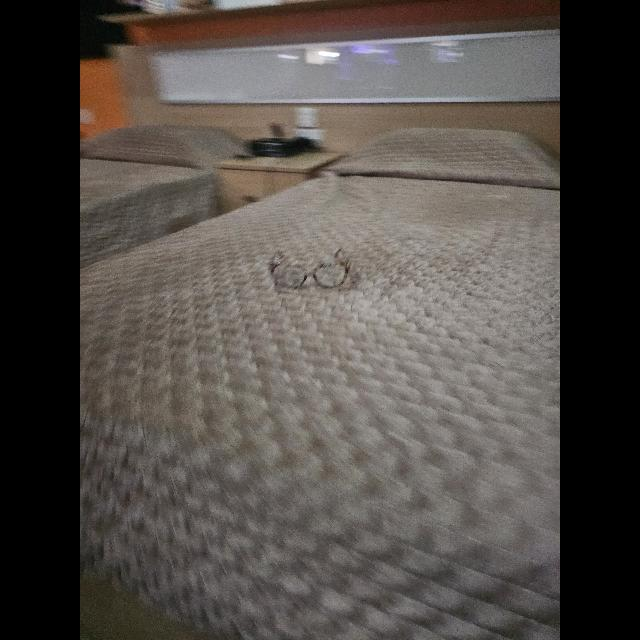glasses: (270, 249, 350, 289)
